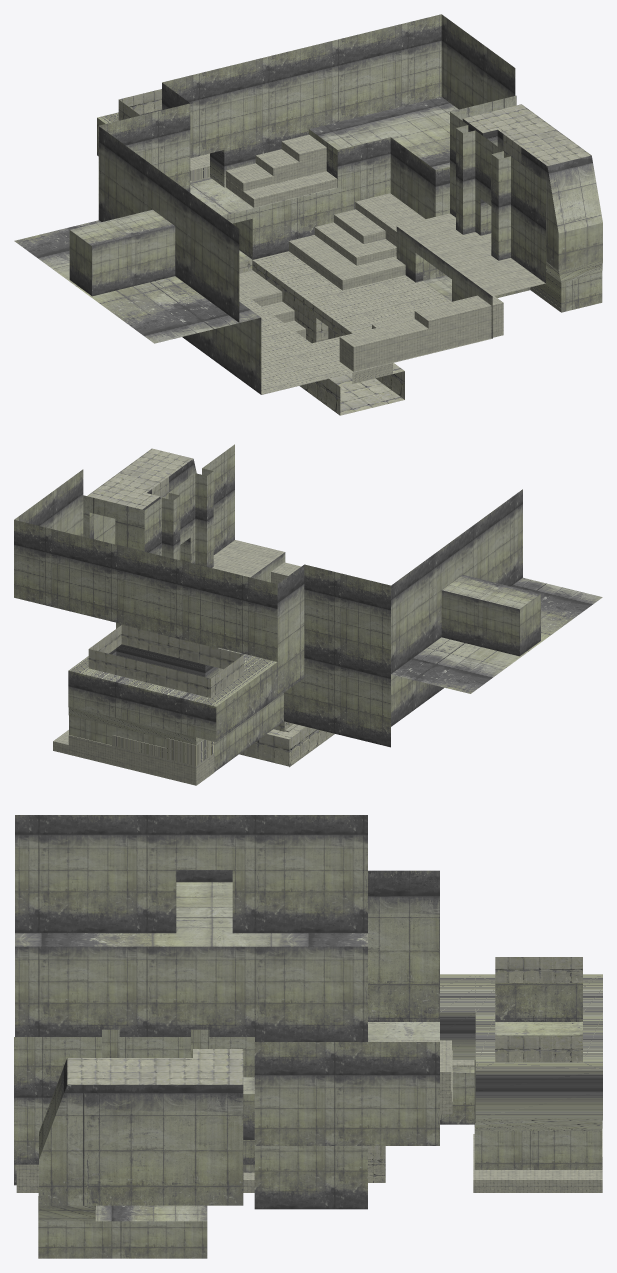
Rendered from SM_Condamnation_Block_00.fbx.
The picture shows the model from 3 angles, top to bottom: view 1: azimuth 30°, elevation 25°; view 2: azimuth 150°, elevation 25°; view 3: azimuth 270°, elevation 25°; orthographic projection. The views are drawn at different scales.
Parts seen in each view (by area): view 1: SM_Condamnation_Block_00; view 2: SM_Condamnation_Block_00; view 3: SM_Condamnation_Block_00.
Boxes of the visible parts, <box> form: SM_Condamnation_Block_00: <box>14,14,602,415</box>; SM_Condamnation_Block_00: <box>14,444,602,785</box>; SM_Condamnation_Block_00: <box>14,815,602,1258</box>.
Bounding box in the file's own units: 6465 × 2867 × 5729.
